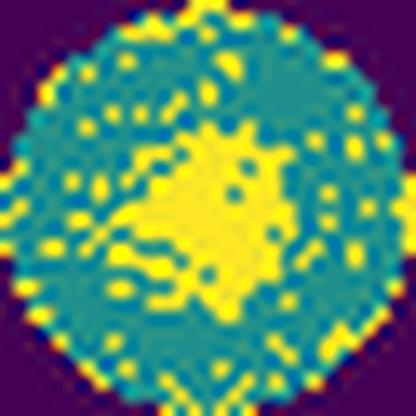Center: (82, 119, 298, 319)
